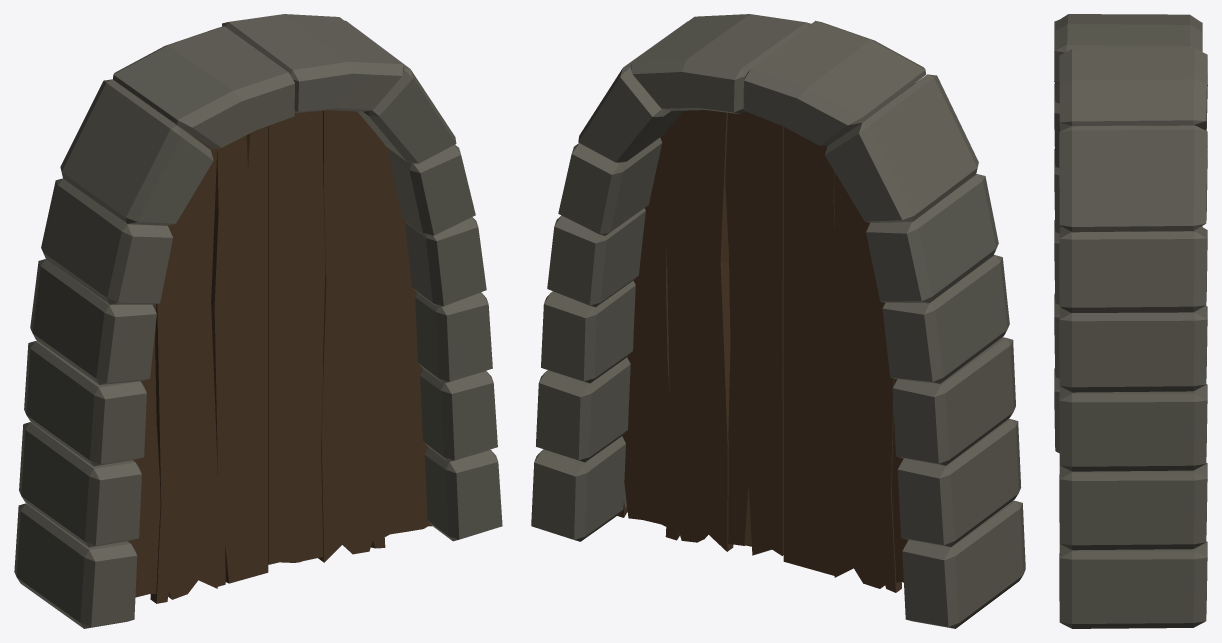
The model's file is Подвальная дверь 1.fbx.
3 views of the same model, side by side, from view 1: azimuth 30°, elevation 25°; view 2: azimuth 150°, elevation 25°; view 3: azimuth 270°, elevation 25° (orthographic). The views are drawn at different scales.
Visible parts, largest first — view 1: Cube.023, Cube.046; view 2: Cube.023, Cube.046; view 3: Cube.023.
Part boxes in pixels (<box>): Cube.023: <box>14,14,502,628</box>; Cube.046: <box>128,110,431,603</box>; Cube.023: <box>531,14,1025,628</box>; Cube.046: <box>617,110,908,592</box>; Cube.023: <box>1054,14,1207,628</box>.
Bounding box in the file's own units: 759 × 898 × 251.
